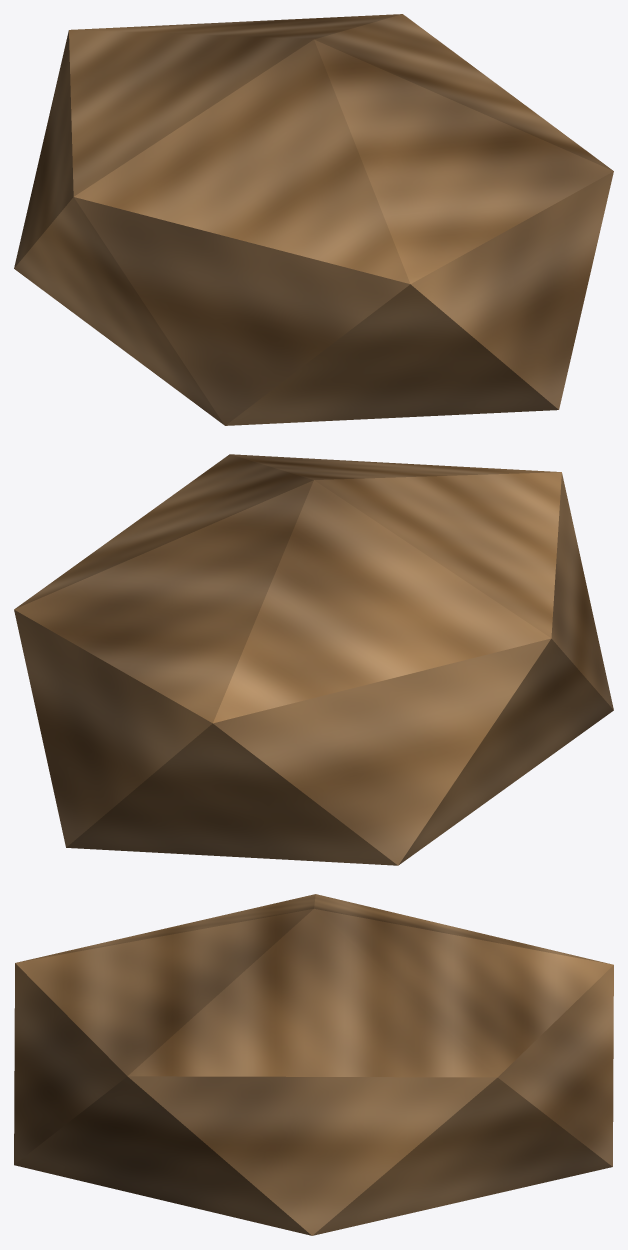
File: 2024_sandstone_talus_19.dae
3 renders of one model, top to bottom at view 1: azimuth 30°, elevation 25°; view 2: azimuth 150°, elevation 25°; view 3: azimuth 270°, elevation 25°, orthographic. The views are drawn at different scales.
Parts seen in each view (by area): view 1: Node; view 2: Node; view 3: Node.
Part boxes in pixels (x1,y1,x2,y2): Node: (14, 14, 613, 425); Node: (14, 454, 613, 865); Node: (14, 894, 613, 1235).
Size of the model in its own units: 0.815 by 1.02 by 0.5874.
Materials: 1 (1 with a texture image).
